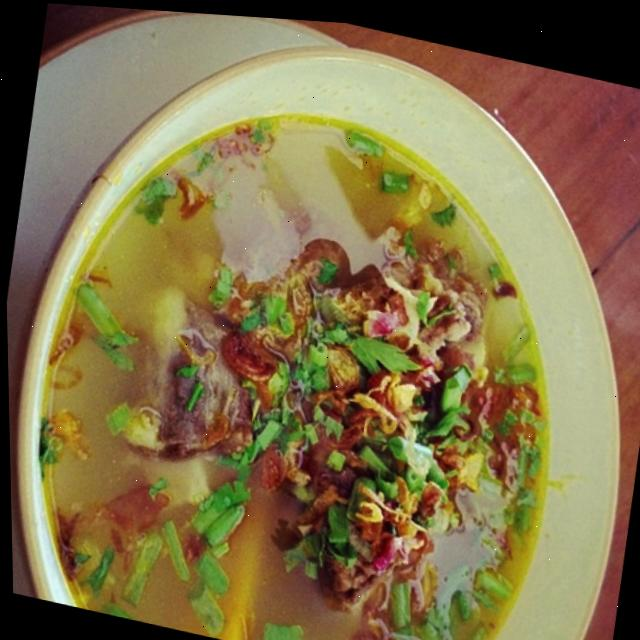汤锅炖物: (0, 11, 640, 640)
